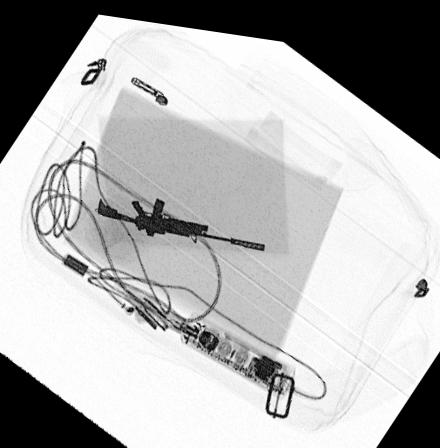Gun: (96, 193, 265, 244)
